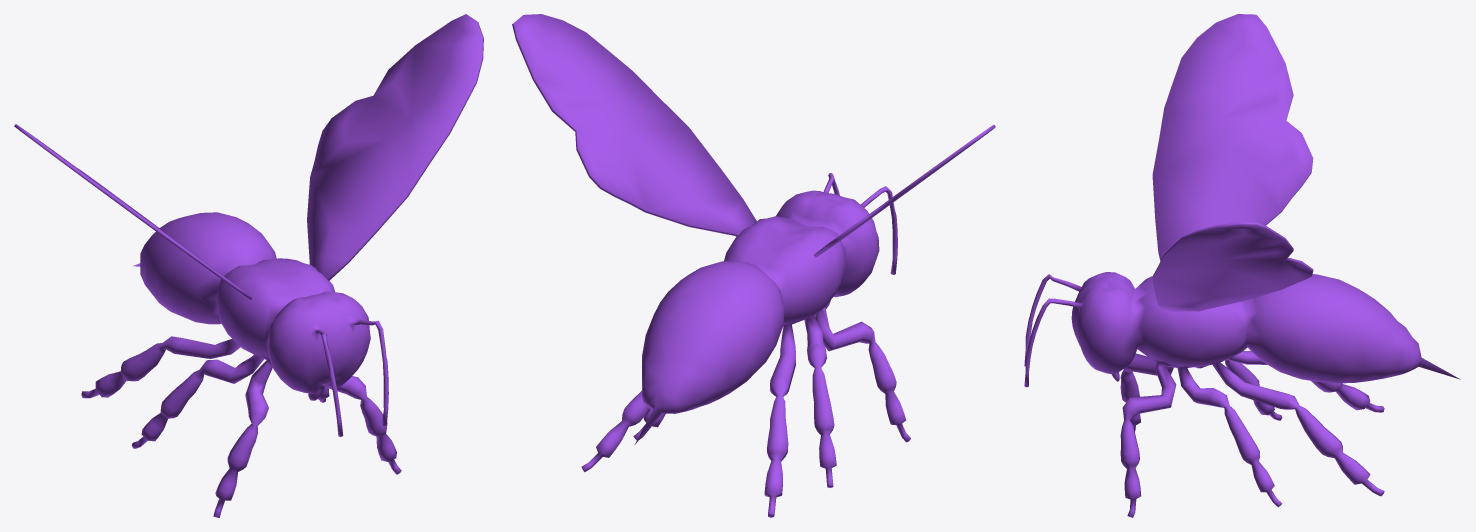
The model's file is bee.gltf.
The picture shows the model from 3 angles, left to right: view 1: azimuth 30°, elevation 25°; view 2: azimuth 150°, elevation 25°; view 3: azimuth 270°, elevation 25°; orthographic projection. The views are drawn at different scales.
Parts seen in each view (by area): view 1: BEE; view 2: BEE; view 3: BEE.
Part boxes in pixels (bbox=[...]): BEE: bbox=[14, 14, 483, 517]; BEE: bbox=[512, 14, 995, 517]; BEE: bbox=[1024, 14, 1460, 517].
Size of the model in its own units: 0.015 by 0.0119 by 0.0132.
